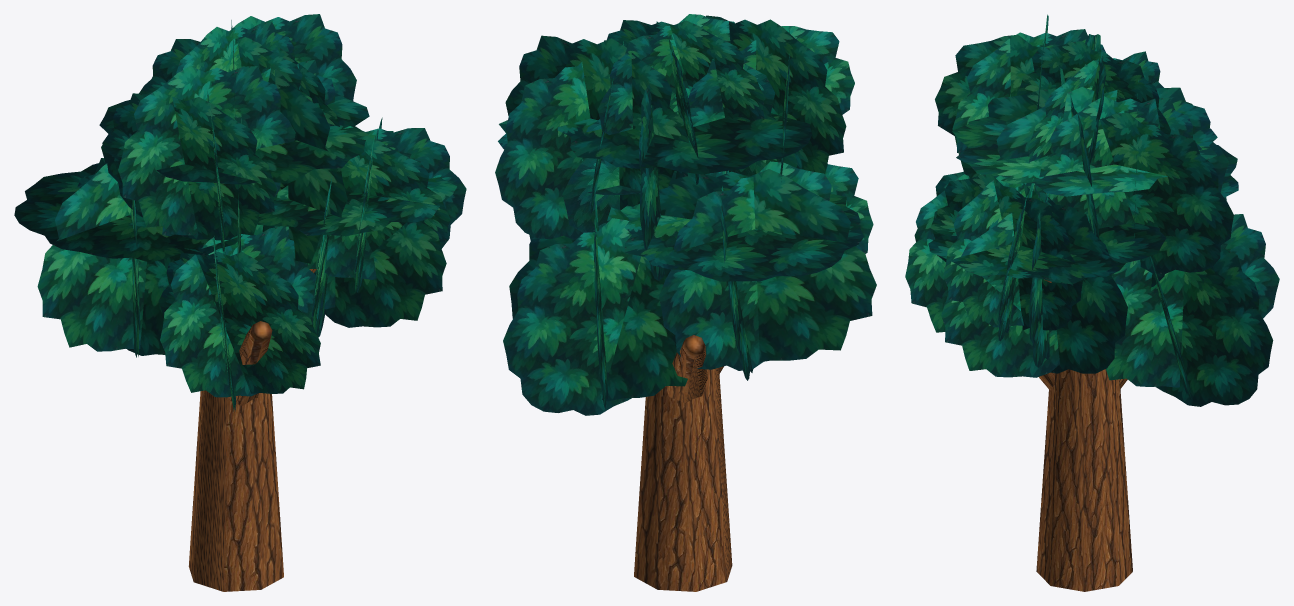
Rendered from ptree_dark_tall.glb.
3 views of the same model, side by side, from view 1: azimuth 30°, elevation 25°; view 2: azimuth 150°, elevation 25°; view 3: azimuth 270°, elevation 25° (orthographic). The views are drawn at different scales.
Parts seen in each view (by area): view 1: leaf, woodBark; view 2: leaf, woodBark; view 3: leaf, woodBark.
Part boxes in pixels (x1,y1,x2,y2): leaf: (14, 14, 466, 411); woodBark: (188, 269, 316, 591); leaf: (495, 14, 876, 415); woodBark: (634, 335, 732, 591); leaf: (905, 14, 1279, 406); woodBark: (1036, 279, 1132, 591).
Size of the model in its own units: 0.8898 by 1.21 by 0.7752.
2 materials, 2 textured.
